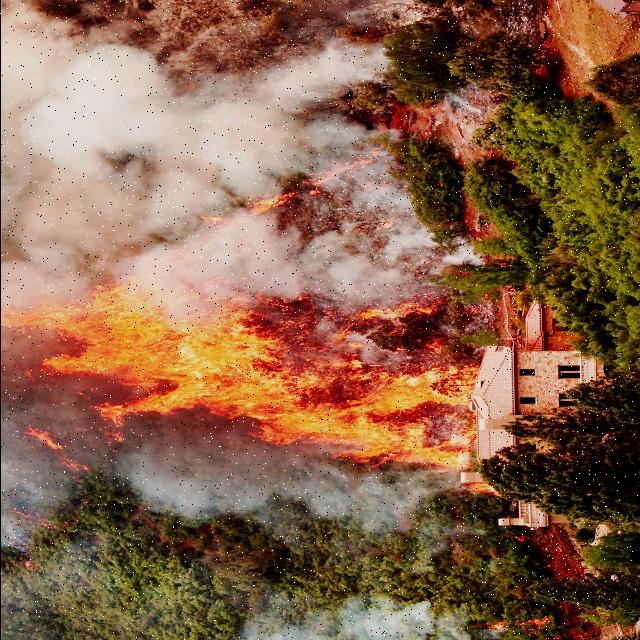api: (1, 132, 520, 505)
asap: (1, 1, 498, 319), (1, 343, 523, 558), (213, 581, 516, 640)
